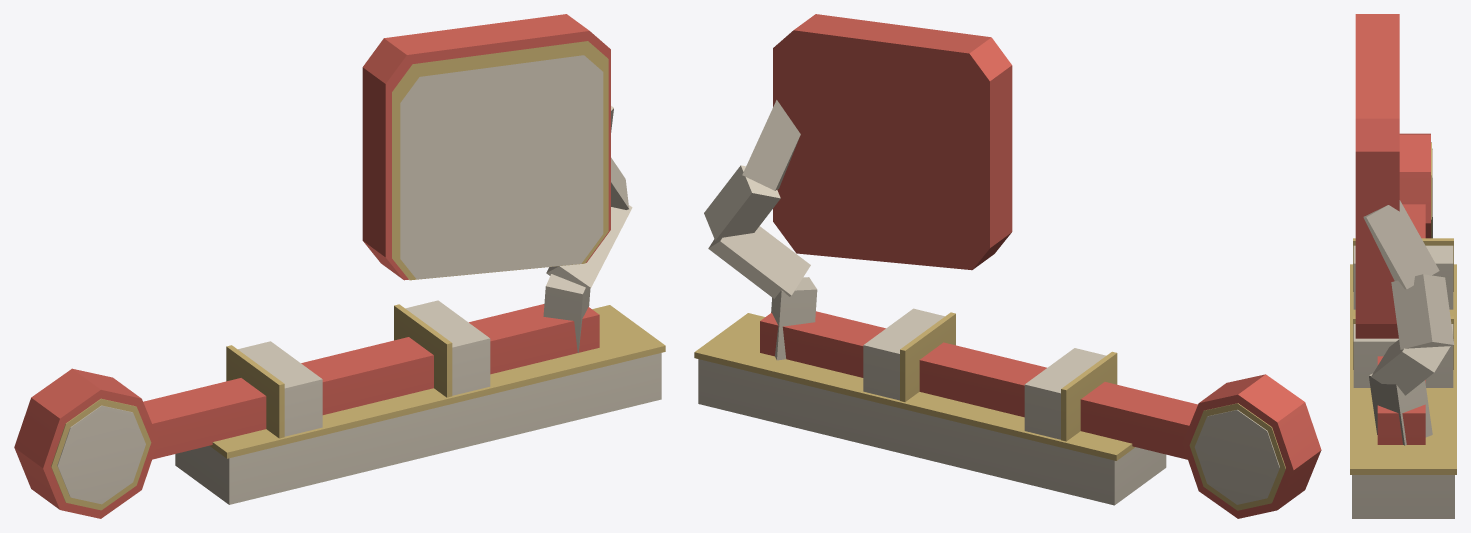
Rendered from pull-tab.glb.
3 views of the same model, side by side, from view 1: azimuth 30°, elevation 25°; view 2: azimuth 150°, elevation 25°; view 3: azimuth 270°, elevation 25° (orthographic). The views are drawn at different scales.
Parts seen in each view (by area): view 1: root_mesh, bob_mesh; view 2: root_mesh, bob_mesh; view 3: root_mesh, bob_mesh.
Part boxes in pixels (x1,y1,x2,y2): root_mesh: (175,14,665,504); bob_mesh: (14,304,599,518); root_mesh: (694,14,1166,505); bob_mesh: (760,311,1321,518); root_mesh: (1350,14,1456,518); bob_mesh: (1377,133,1432,444).
Bounding box in the file's own units: 1.9 × 1.2 × 0.3.
